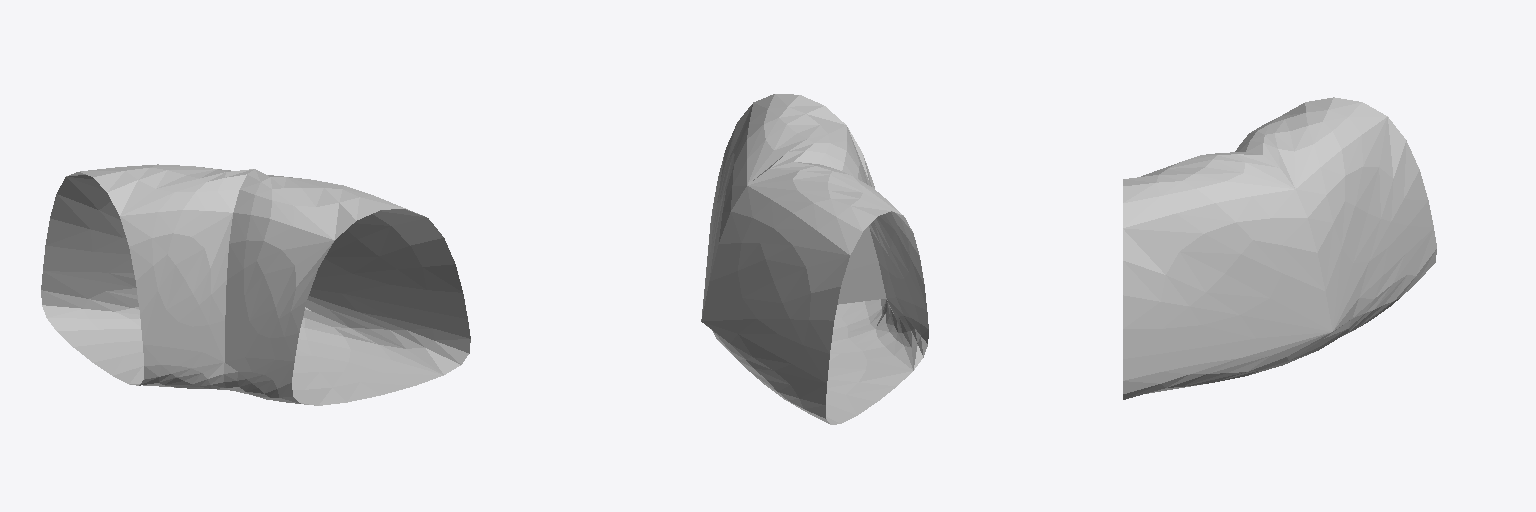
Rendered from cave_902_0.obj.
3 renders of one model, left to right at view 1: azimuth 30°, elevation 25°; view 2: azimuth 150°, elevation 25°; view 3: azimuth 270°, elevation 25°, orthographic.
Parts seen in each view (by area): view 1: cave_902_0_Cube.006; view 2: cave_902_0_Cube.006; view 3: cave_902_0_Cube.006.
Boxes of the visible parts, <box> form: cave_902_0_Cube.006: <box>41,164,470,405</box>; cave_902_0_Cube.006: <box>701,94,928,424</box>; cave_902_0_Cube.006: <box>1123,97,1436,399</box>.
Bounding box in the file's own units: 8.94 × 5.88 × 8.94.